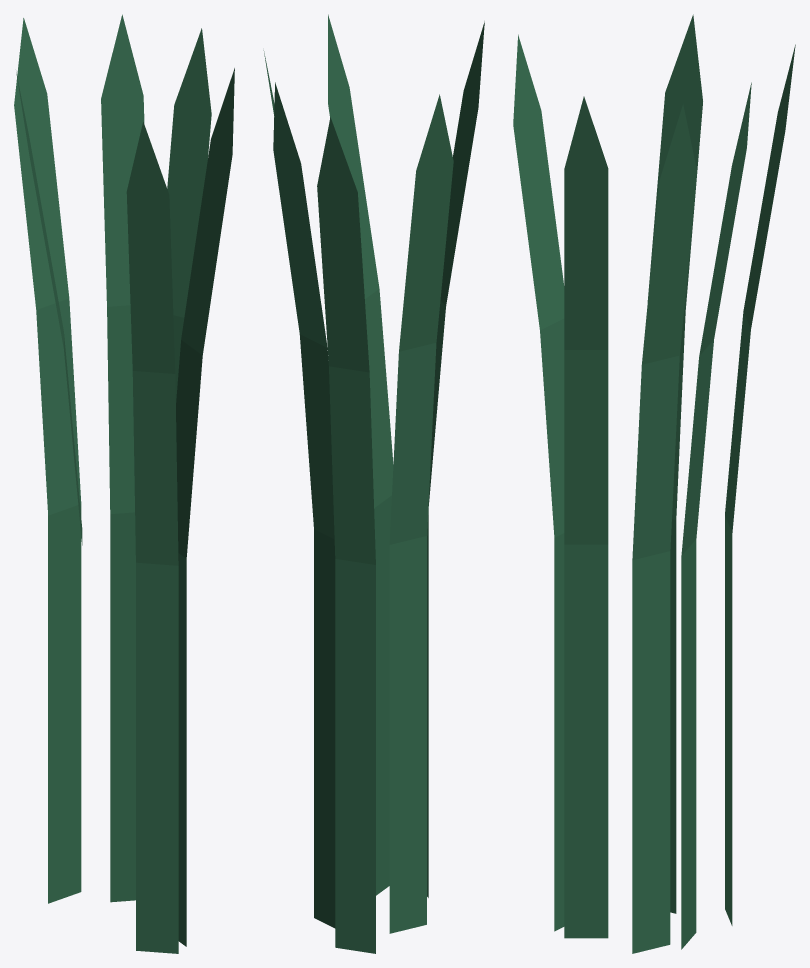
The model's file is WildGrass.dae.
3 renders of one model, left to right at view 1: azimuth 30°, elevation 25°; view 2: azimuth 150°, elevation 25°; view 3: azimuth 270°, elevation 25°, orthographic.
Parts seen in each view (by area): view 1: Brep (×6); view 2: Brep (×5); view 3: Brep (×6).
Part boxes in pixels (bbox=[...]): Brep (×6): bbox=[14, 14, 234, 953]; Brep (×5): bbox=[273, 14, 484, 953]; Brep (×6): bbox=[513, 14, 795, 953].
Bounding box in the file's own units: 4.84 × 6.44 × 21.89.
